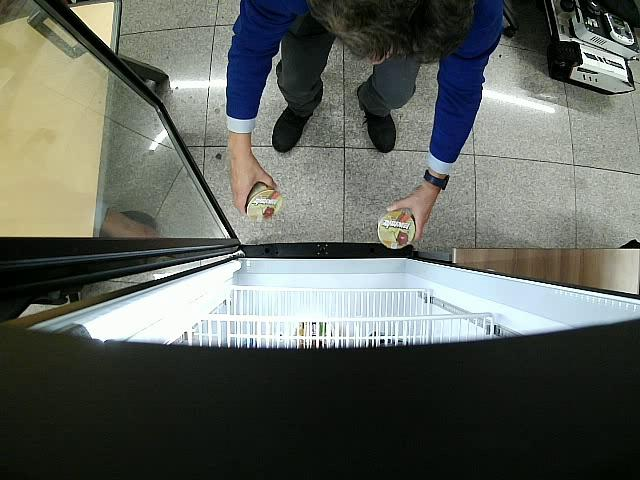00_hand: (229, 147, 277, 218), (386, 185, 436, 243)
04_chapagetti_S: (246, 182, 284, 219), (378, 211, 415, 249)
